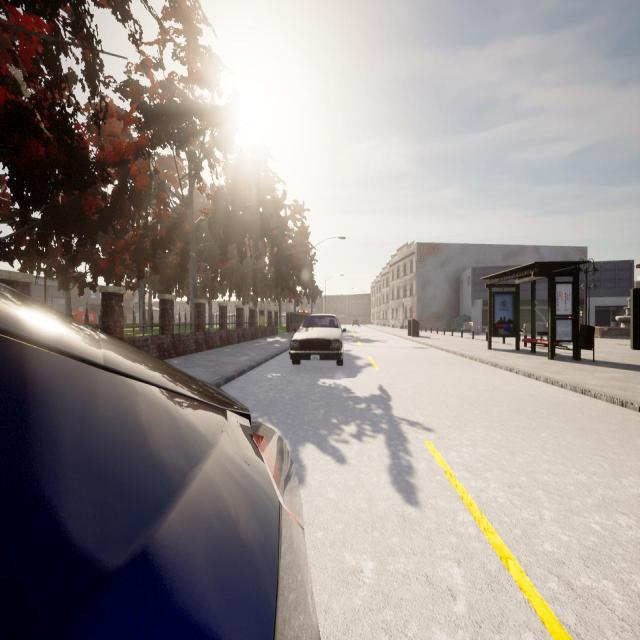Vehicle: (0, 287, 319, 640), (290, 314, 346, 366), (352, 317, 360, 327)
